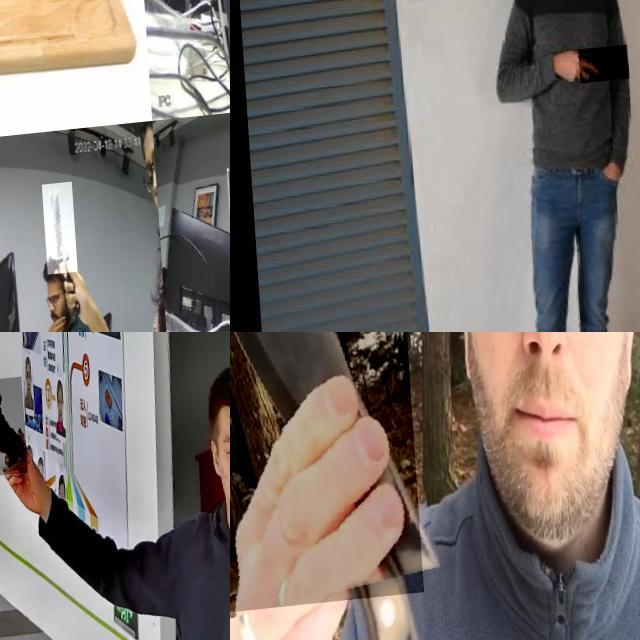-: (230, 332, 416, 620), (37, 188, 71, 280), (574, 53, 625, 91), (0, 0, 23, 58)
gun-knife-thesis - v11 Yolov5 augmented: (0, 382, 44, 485)
